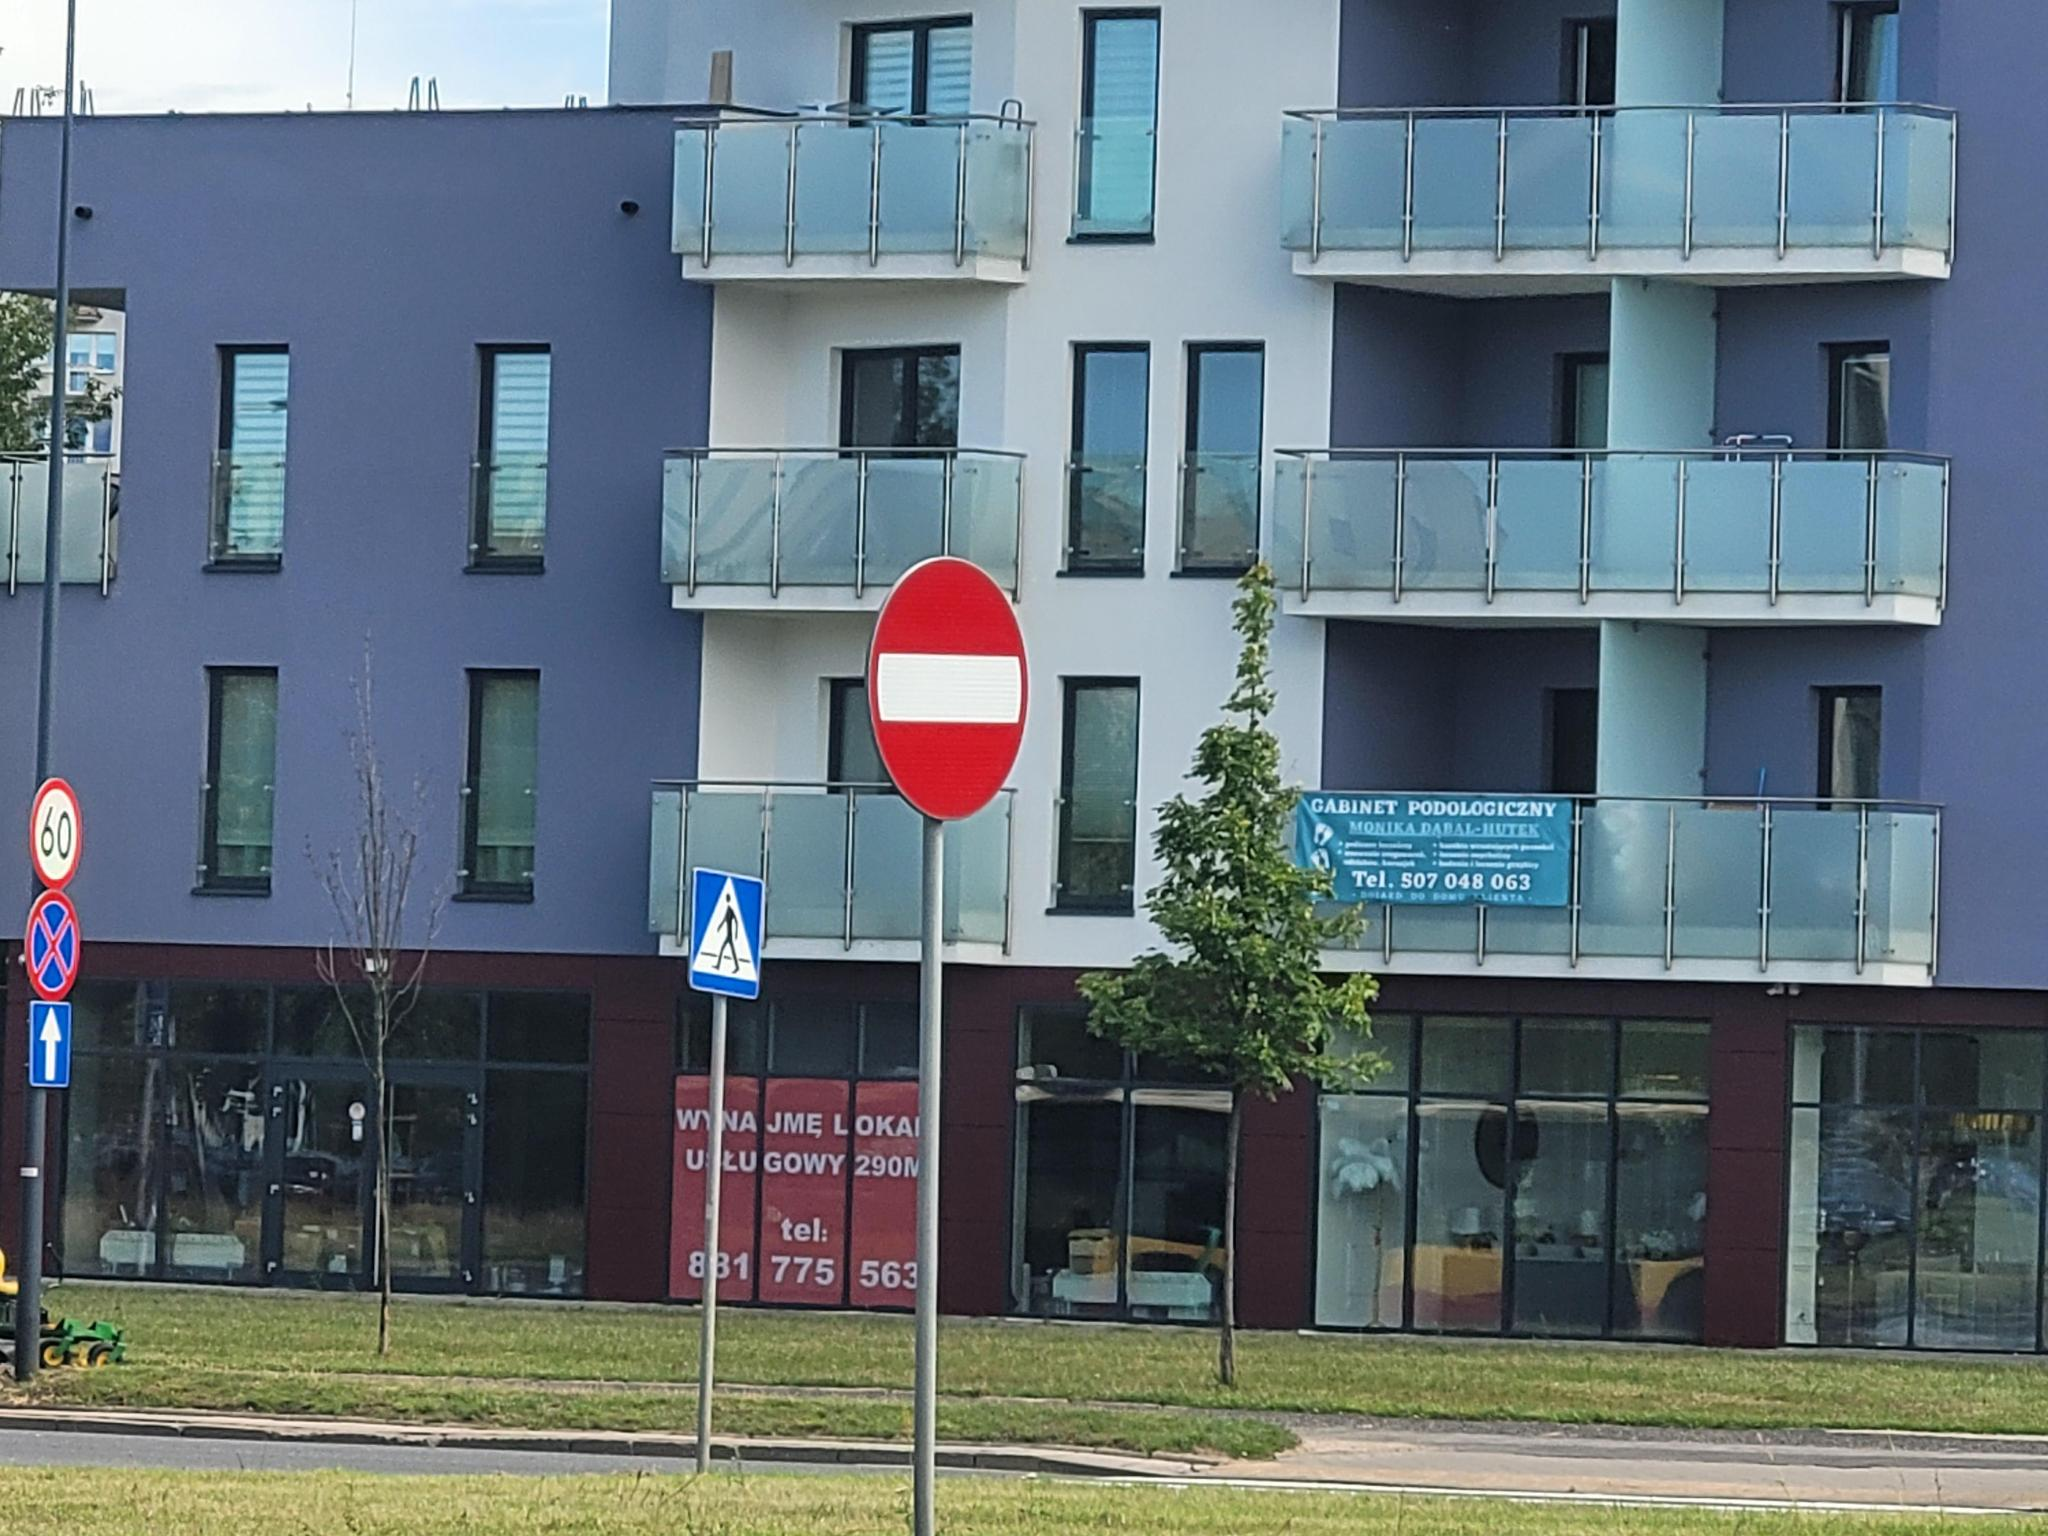information: (689, 866, 766, 999), (31, 1004, 69, 1086)
prohibitory: (866, 553, 1029, 824), (24, 889, 82, 1002), (27, 774, 84, 889)
